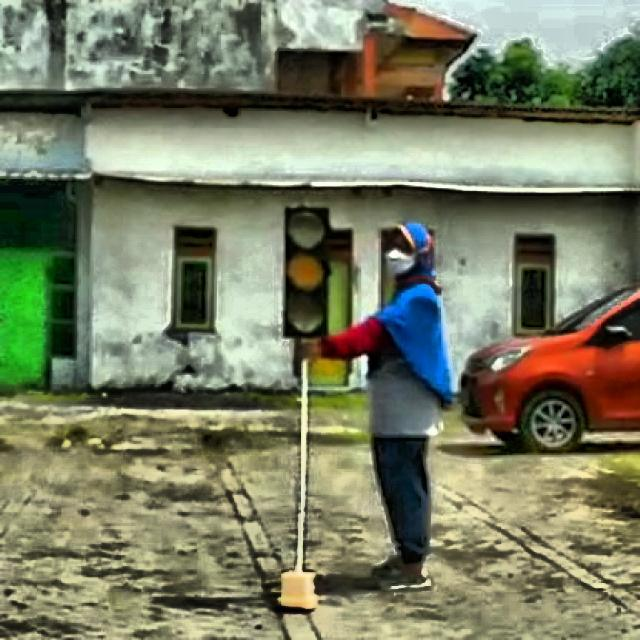yellow: (283, 205, 331, 339)
